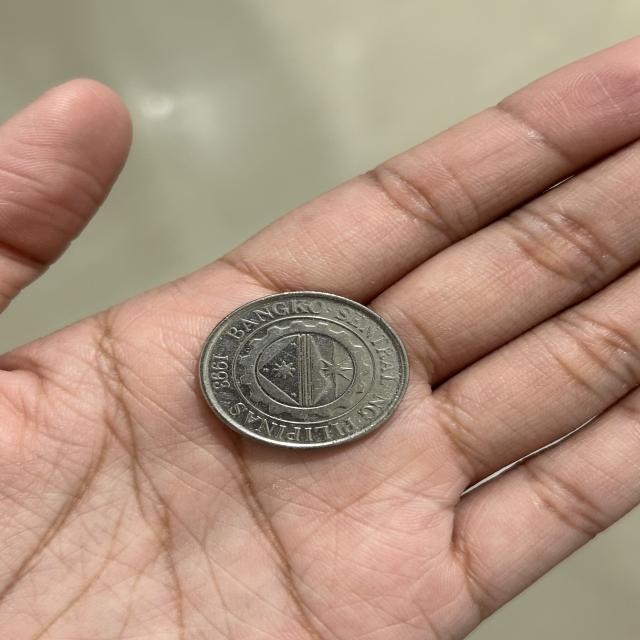1_Old_Back: (230, 313, 370, 425)
